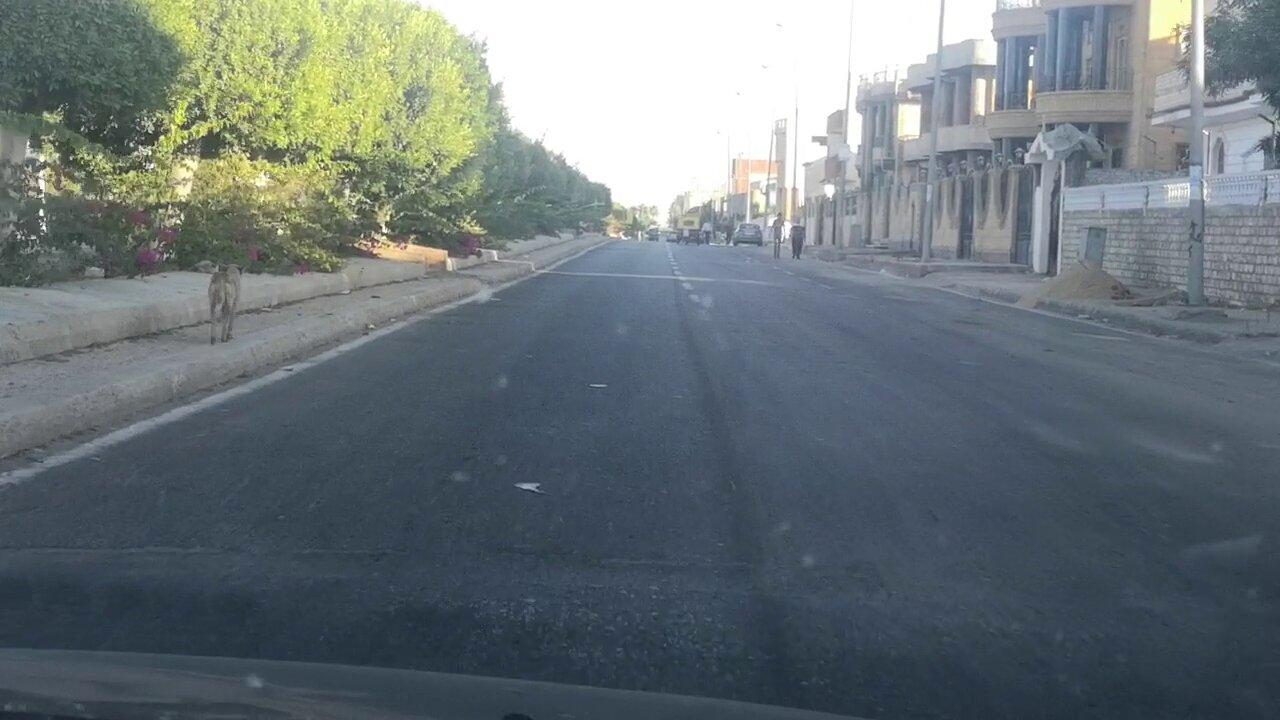Bump: (2, 537, 1280, 720)
